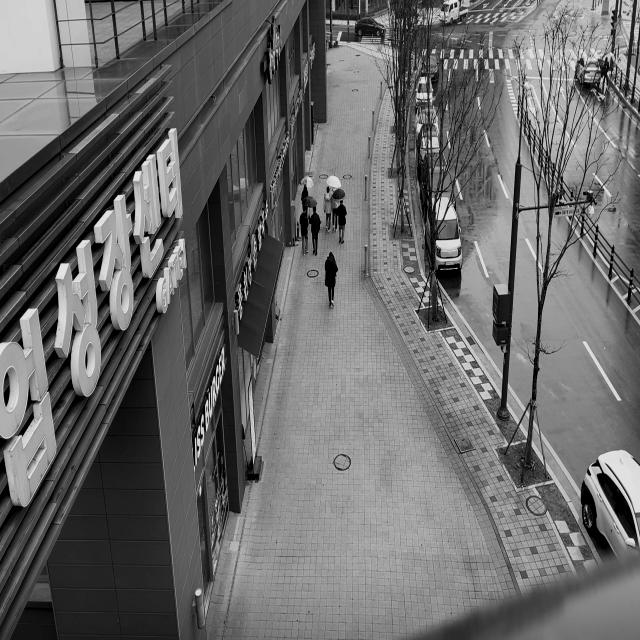Car: (572, 434, 640, 579), (425, 190, 468, 284), (421, 154, 456, 214), (351, 7, 395, 45), (414, 118, 444, 163), (416, 100, 445, 138), (415, 72, 442, 110), (421, 49, 444, 82)
Truck: (436, 0, 474, 25)
